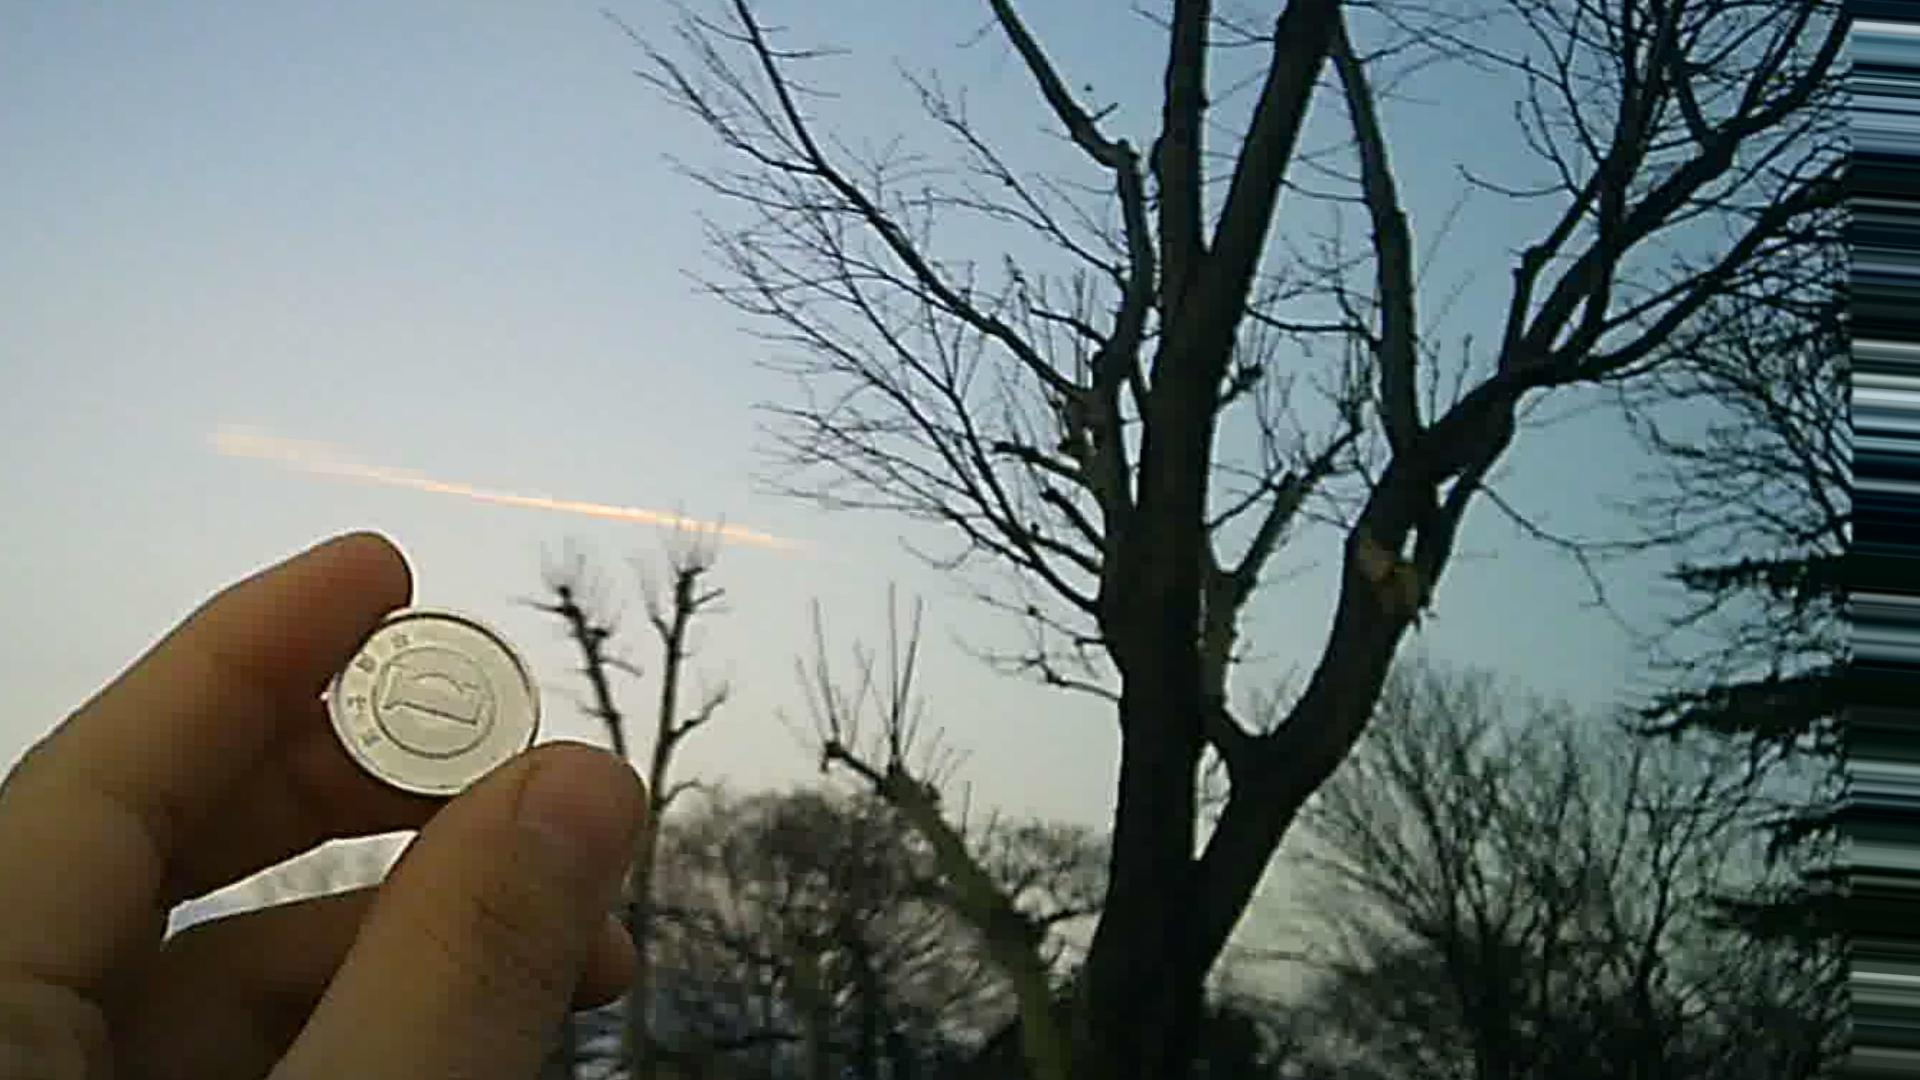1 Yen: (301, 588, 526, 804)
